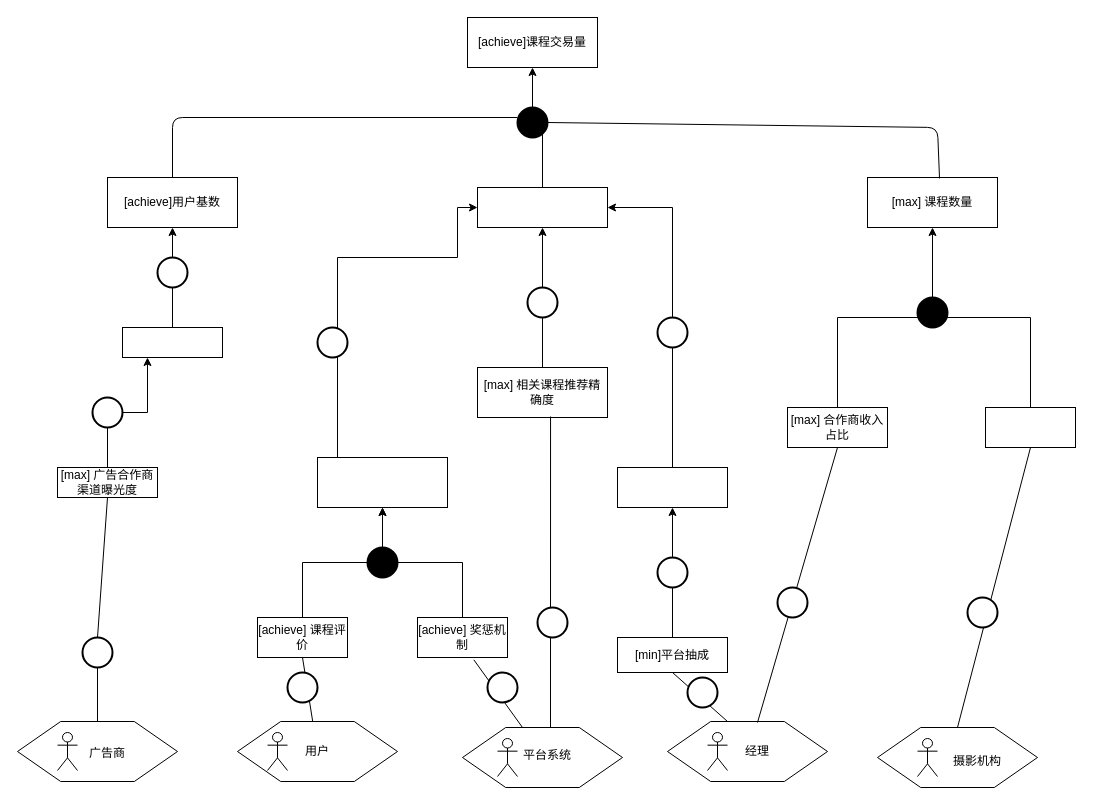
The diagram is 1093 pixels wide and 805 high, and some of its shapes have lost their labels. The shapes that lost their labels are listed below. From the top down, each one's box as (x1, y1, x2, y2) in pixels, then its label:
(476, 186, 608, 228): [achieve]用户的购买率
(122, 326, 222, 358): [max] 平台曝光度
(984, 406, 1076, 448): [avoid]摄影机构流失
(316, 456, 448, 508): [max] 课程质量
(616, 466, 728, 508): [max] 课程优惠力度
